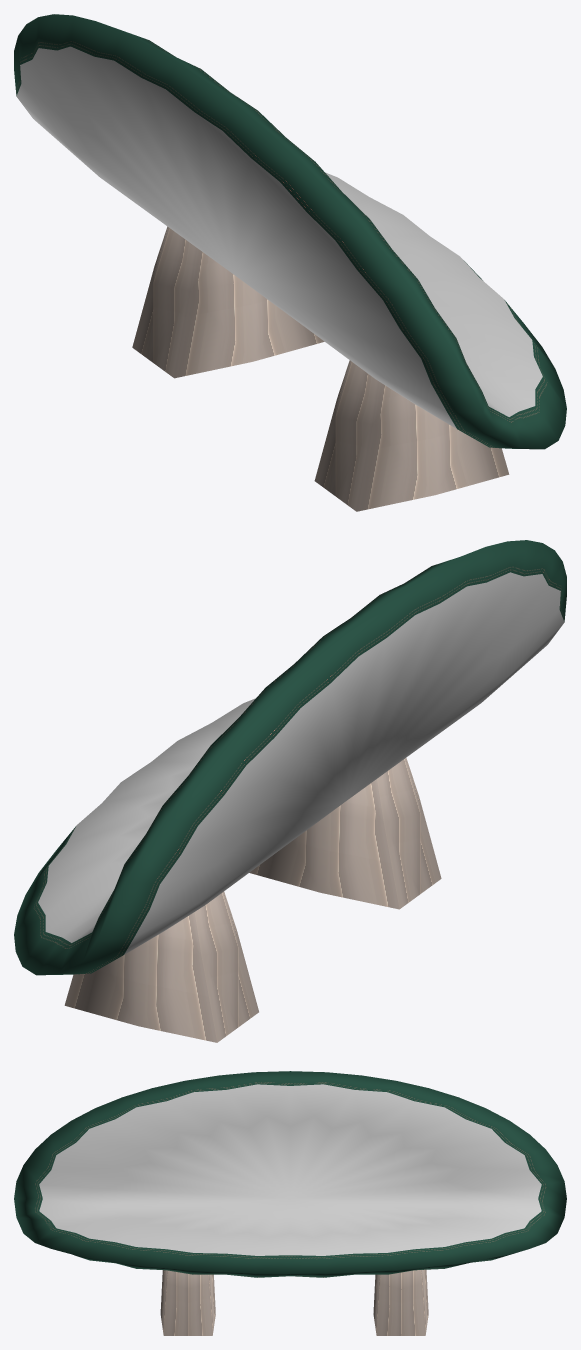
The model's file is HUBSofa.fbx.
The picture shows the model from 3 angles, top to bottom: view 1: azimuth 30°, elevation 25°; view 2: azimuth 150°, elevation 25°; view 3: azimuth 270°, elevation 25°; orthographic projection. The views are drawn at different scales.
Parts seen in each view (by area): view 1: pCylinder2, pCube1, pCube2; view 2: pCylinder2, pCube2, pCube1; view 3: pCylinder2, pCube2, pCube1.
Part boxes in pixels (bbox=[...]): pCylinder2: bbox=[14, 14, 566, 449]; pCube1: bbox=[314, 360, 509, 511]; pCube2: bbox=[132, 226, 324, 378]; pCylinder2: bbox=[14, 540, 566, 975]; pCube2: bbox=[64, 891, 258, 1042]; pCube1: bbox=[249, 758, 441, 909]; pCylinder2: bbox=[14, 1071, 566, 1277]; pCube2: bbox=[373, 1269, 428, 1335]; pCube1: bbox=[160, 1270, 215, 1335].
Size of the model in its own units: 104 by 141 by 338.
